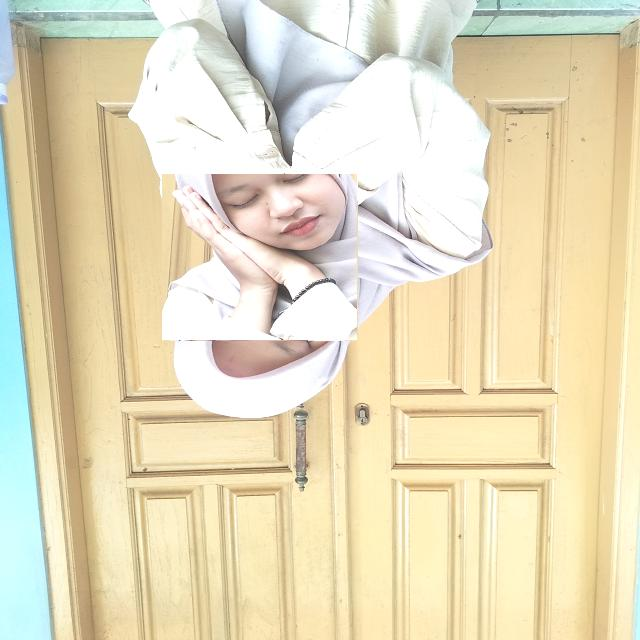tidur: (162, 174, 358, 341)
